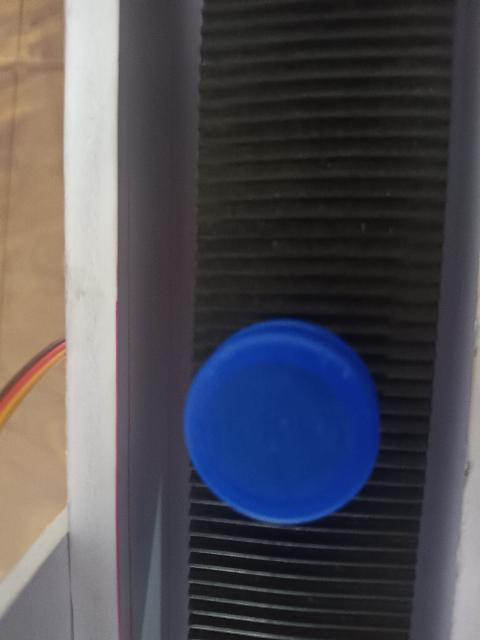bottlecap: (180, 316, 384, 530)
